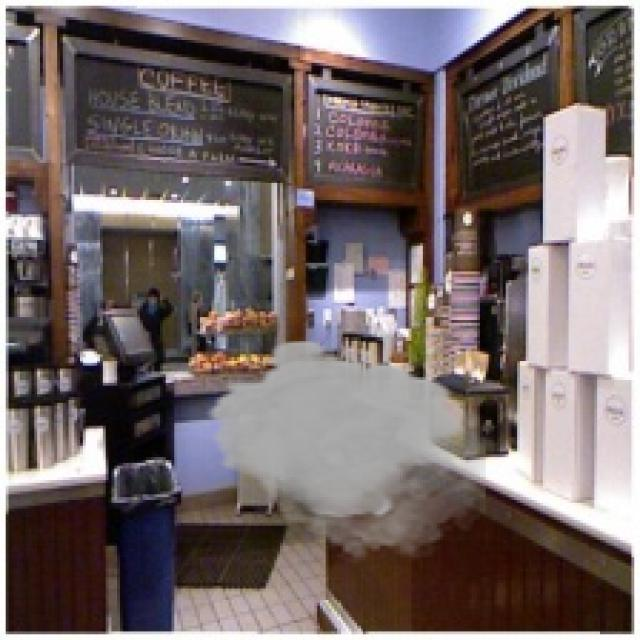smoke: (203, 337, 486, 566)
